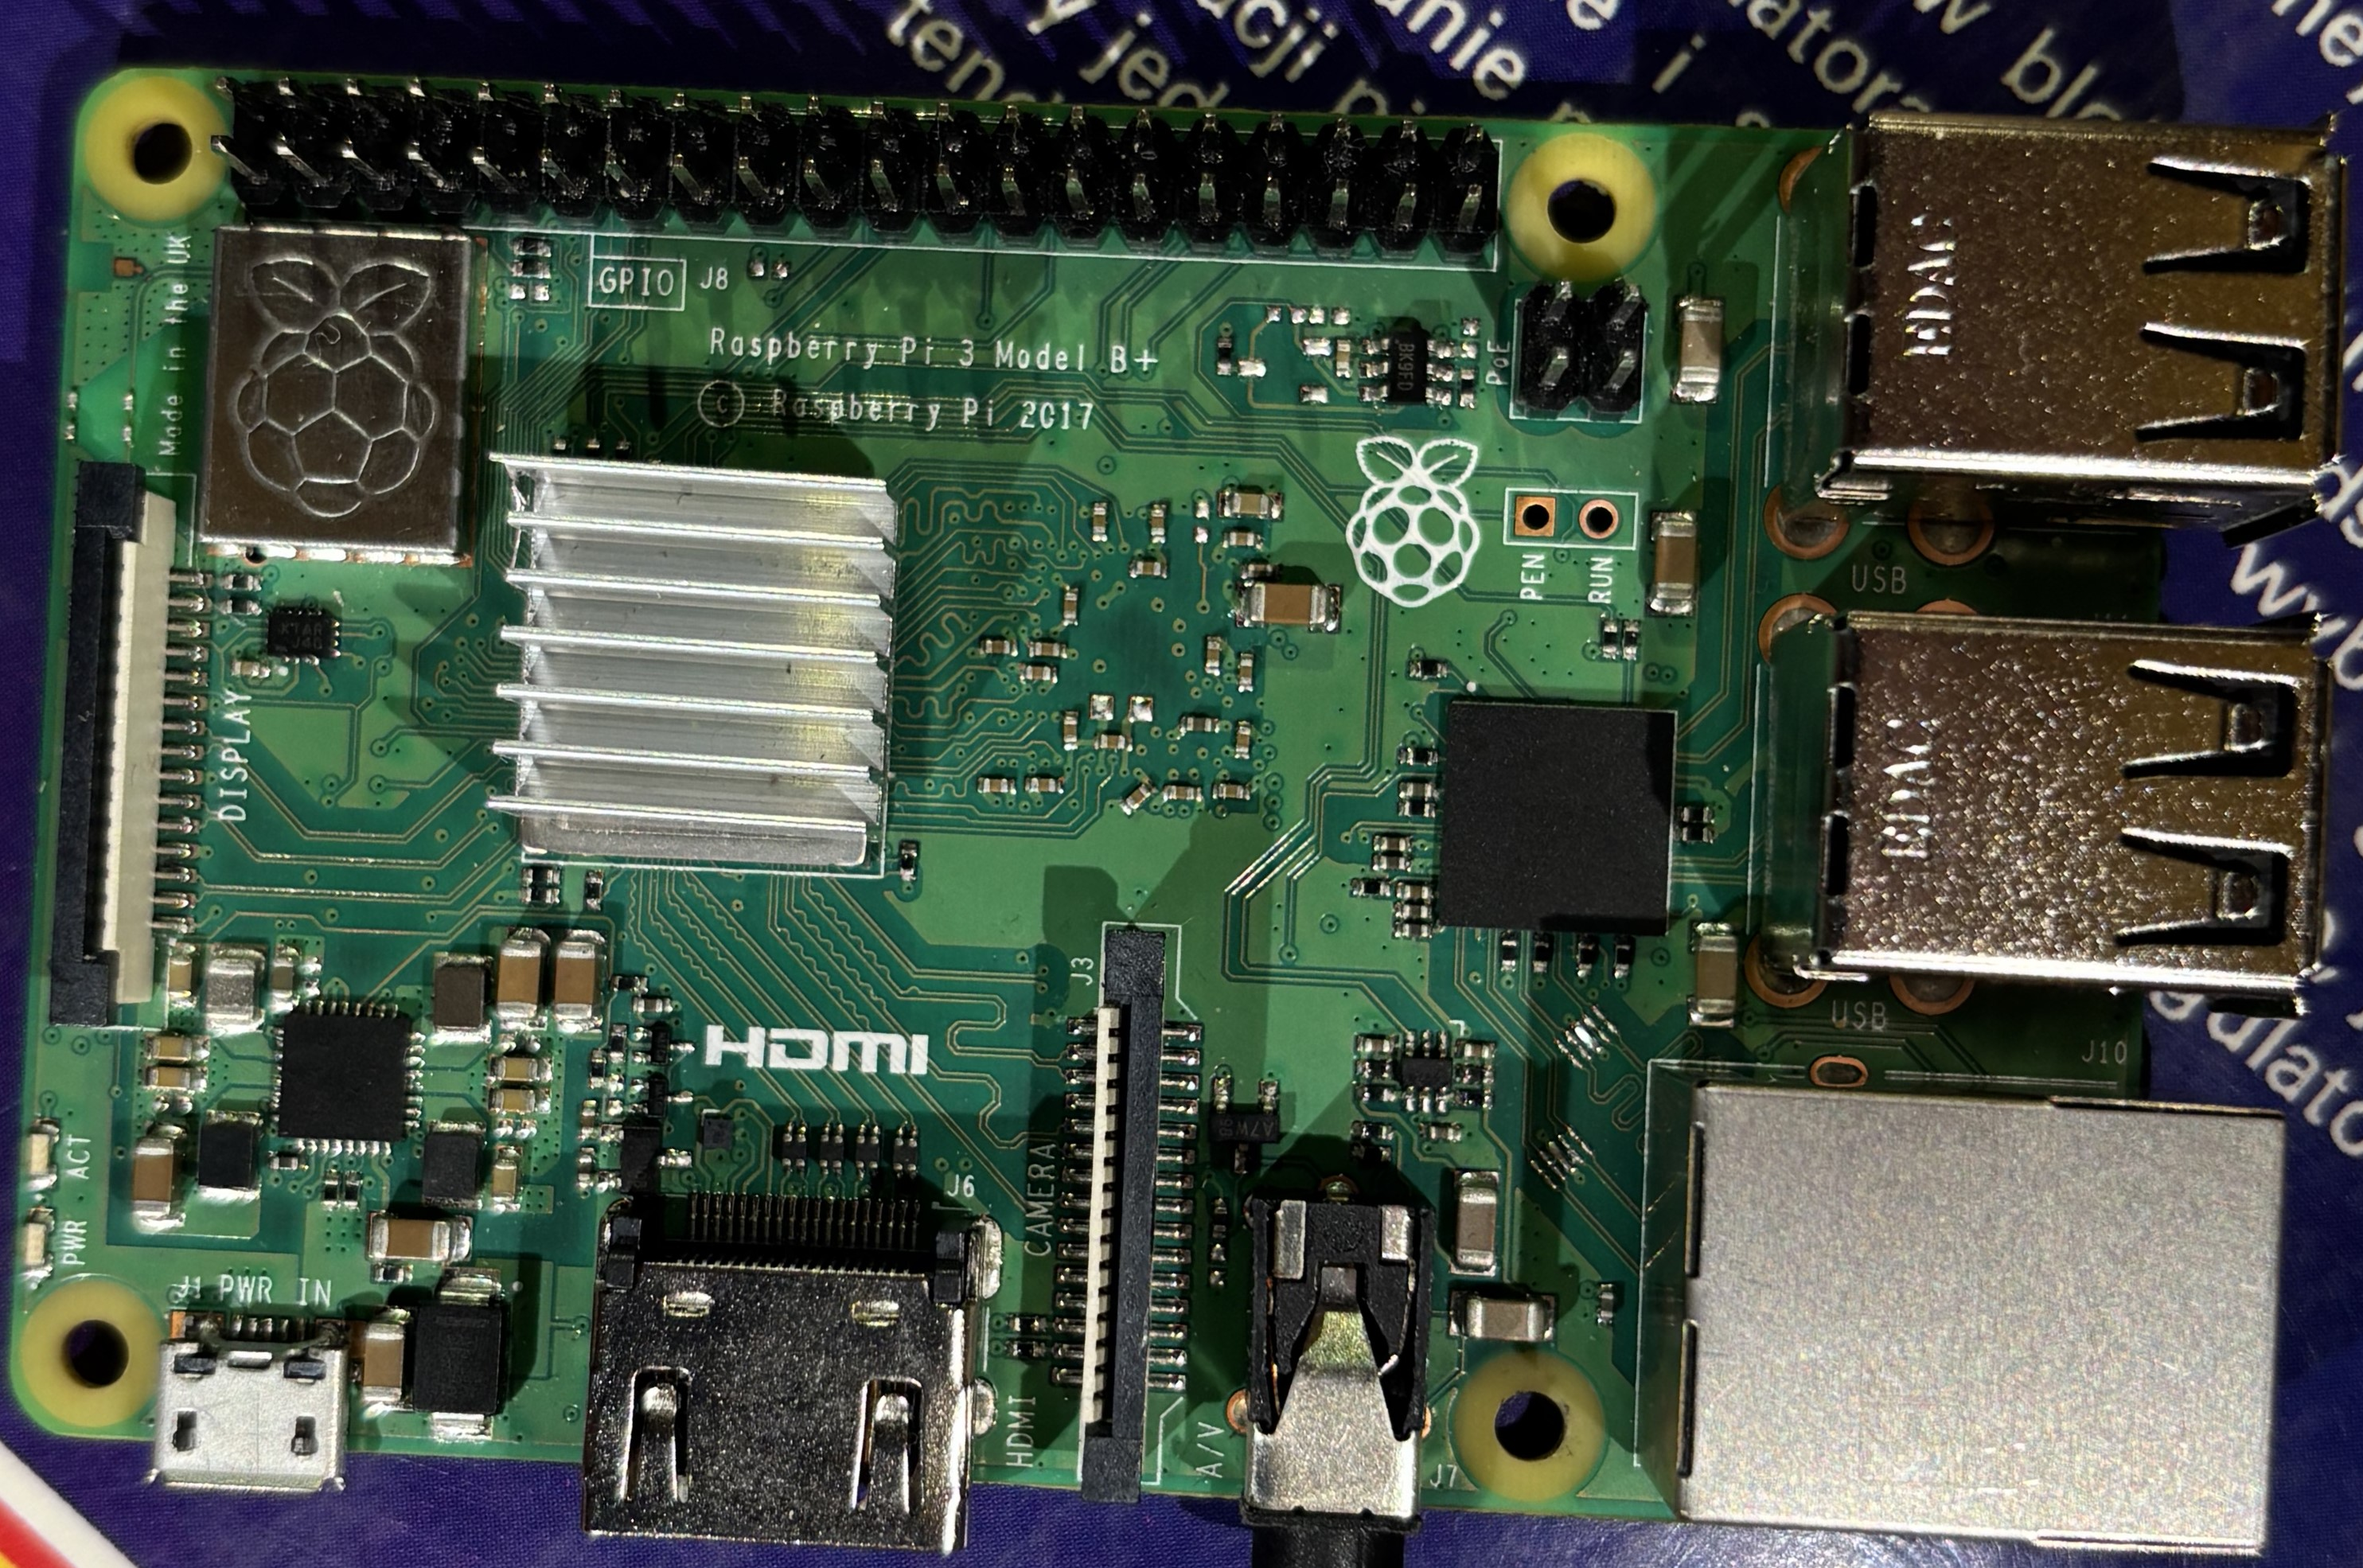Induktor: (198, 1118, 257, 1190), (422, 1130, 477, 1206), (434, 961, 484, 1029), (784, 1122, 808, 1172), (894, 1127, 918, 1176), (857, 1125, 878, 1174), (822, 1123, 843, 1171)
